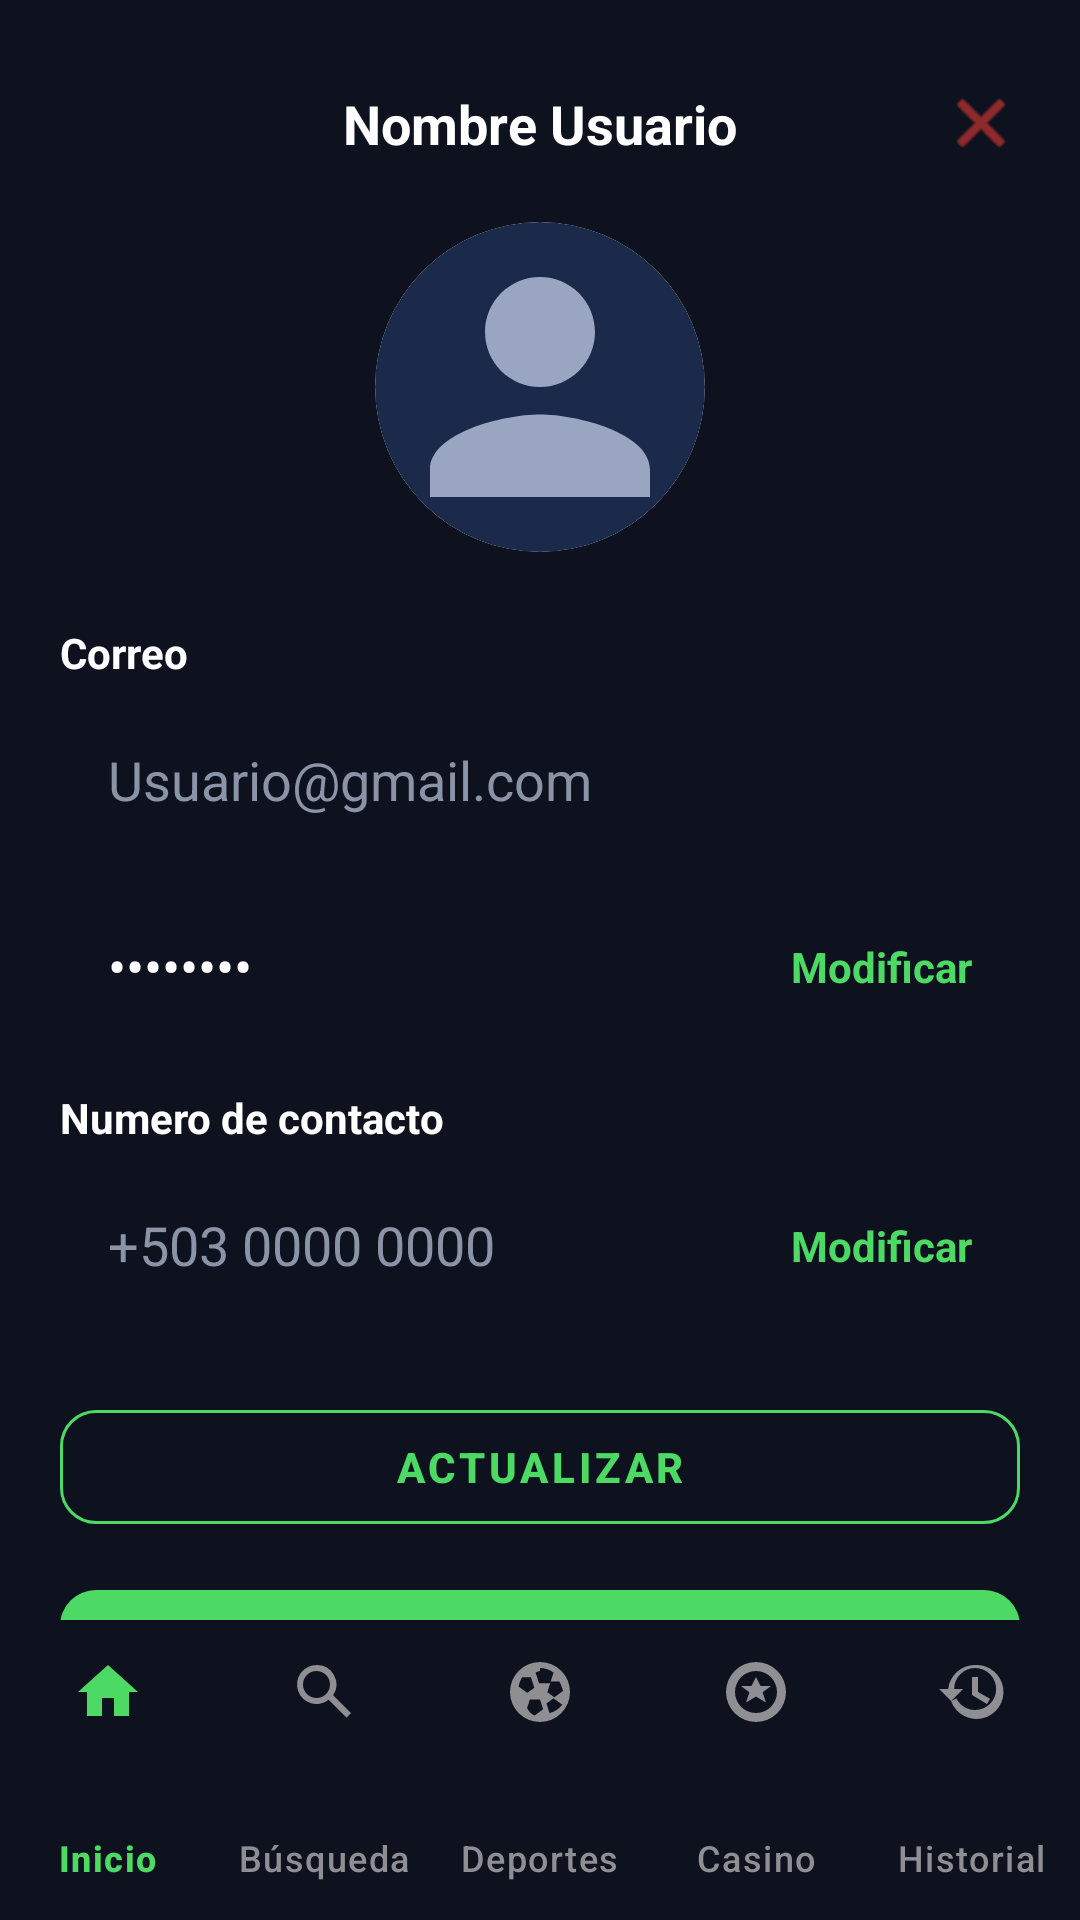

Named icons in this screenshot (1080px x 1920px) and their centers, point (x, y):
Cerrar: point (981, 123)
